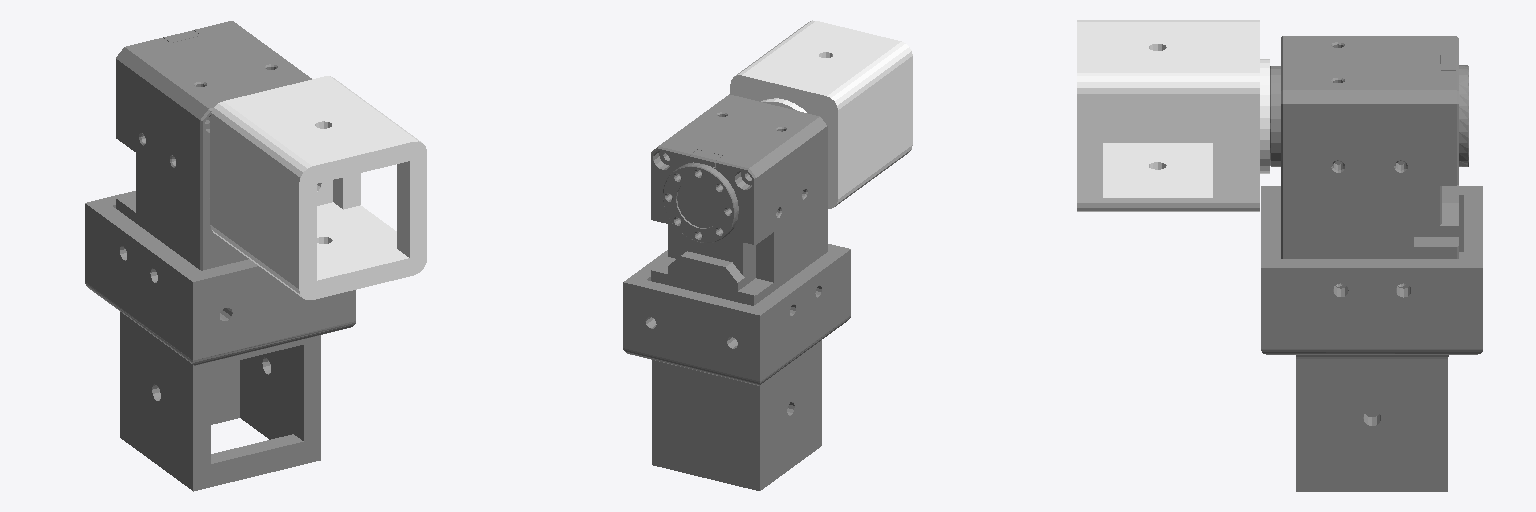
The robot description file, URDF, robot "430_joint":
<?xml version="1.0" encoding="utf-8"?>
<!-- This URDF was automatically created by SolidWorks to URDF Exporter! Originally created by [author] ([email redacted]) 
     Commit Version: 1.6.0-4-g7f85cfe  Build Version: 1.6.7995.38578
     For more information, please see http://wiki.ros.org/sw_urdf_exporter -->
<robot
  name="430_joint">
  <link
    name="base_link">
    <inertial>
      <origin
        xyz="9.64238987444248E-05 -0.0238625954220517 -0.0191555751472326"
        rpy="0 0 0" />
      <mass
        value="0.15267323851" />
      <inertia
        ixx="2.06412498439939E-05"
        ixy="-3.33052764910213E-15"
        ixz="-6.37223363832157E-13"
        iyy="1.48281207616152E-05"
        iyz="-2.93366267658796E-07"
        izz="1.86371462203555E-05" />
    </inertial>
    <visual>
      <origin
        xyz="0 0 0"
        rpy="0 0 0" />
      <geometry>
        <mesh
          filename="package://430_joint/meshes/base_link.STL" />
      </geometry>
      <material
        name="">
        <color
          rgba="0.627450980392157 0.627450980392157 0.627450980392157 1" />
      </material>
    </visual>
    <collision>
      <origin
        xyz="0 0 0"
        rpy="0 0 0" />
      <geometry>
        <mesh
          filename="package://430_joint/meshes/base_link.STL" />
      </geometry>
    </collision>
  </link>
  <link
    name="adaptor_Link">
    <inertial>
      <origin
        xyz="-0.00158429066893598 -8.42936186868633E-11 0.0179865551420174"
        rpy="0 0 0" />
      <mass
        value="0.0139178998268077" />
      <inertia
        ixx="3.22006152261719E-06"
        ixy="3.63333509080367E-23"
        ixz="1.01726459118517E-07"
        iyy="2.98404801683955E-06"
        iyz="-4.10219058369914E-23"
        izz="2.66670579310236E-06" />
    </inertial>
    <visual>
      <origin
        xyz="0 0 0"
        rpy="0 0 0" />
      <geometry>
        <mesh
          filename="package://430_joint/meshes/adaptor_Link.STL" />
      </geometry>
      <material
        name="">
        <color
          rgba="1 1 1 1" />
      </material>
    </visual>
    <collision>
      <origin
        xyz="0 0 0"
        rpy="0 0 0" />
      <geometry>
        <mesh
          filename="package://430_joint/meshes/adaptor_Link.STL" />
      </geometry>
    </collision>
  </link>
  <joint
    name="adaptor_joint"
    type="continuous">
    <origin
      xyz="0 0.0011 0"
      rpy="1.5707963267949 0 0" />
    <parent
      link="base_link" />
    <child
      link="adaptor_Link" />
    <axis
      xyz="0 0 1" />
  </joint>
</robot>

--- Render facts (derived) ---
3 views of the same robot in one strip: view 1: azimuth 30°, elevation 25°; view 2: azimuth 150°, elevation 25°; view 3: azimuth 270°, elevation 25° (orthographic).
Model 430_joint with 2 links and 1 joints (1 continuous), rooted at base_link, posed every joint at zero.
Links seen in each view (by area): view 1: base_link, adaptor_Link; view 2: base_link, adaptor_Link; view 3: base_link, adaptor_Link.
Link boxes in pixels (x1,y1,x2,y2): base_link: (85,21,355,491); adaptor_Link: (210,76,426,299); base_link: (623,94,850,490); adaptor_Link: (730,20,912,208); base_link: (1261,36,1482,491); adaptor_Link: (1077,20,1269,211).
Size in the robot's own frame: 0.037 by 0.0777 by 0.0868 metres.
Meshes: 2 distinct files referenced, 2 mesh visuals loaded (2 binary STL).
